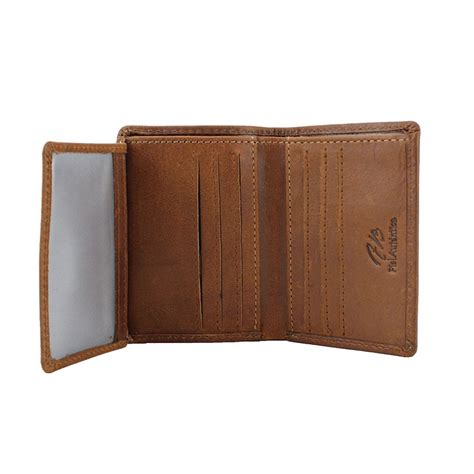cuero: (38, 119, 433, 374)
